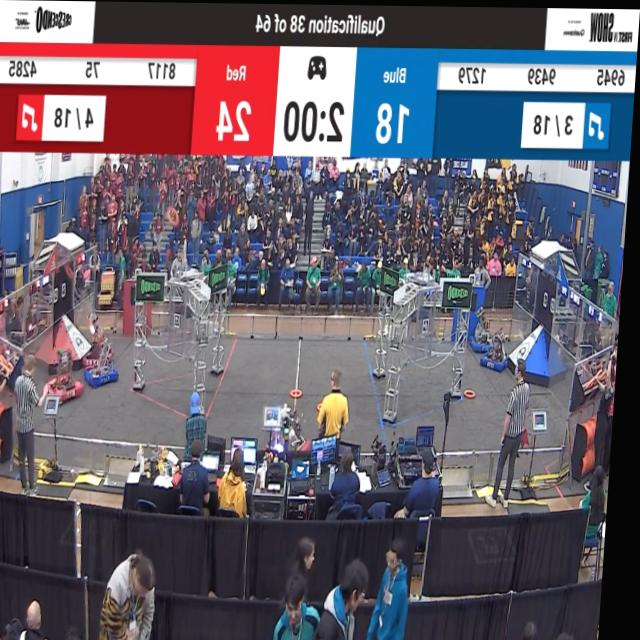Robot: (266, 396, 321, 460), (473, 302, 515, 373), (48, 346, 90, 414), (85, 321, 126, 389), (83, 305, 124, 371), (474, 302, 501, 351)
